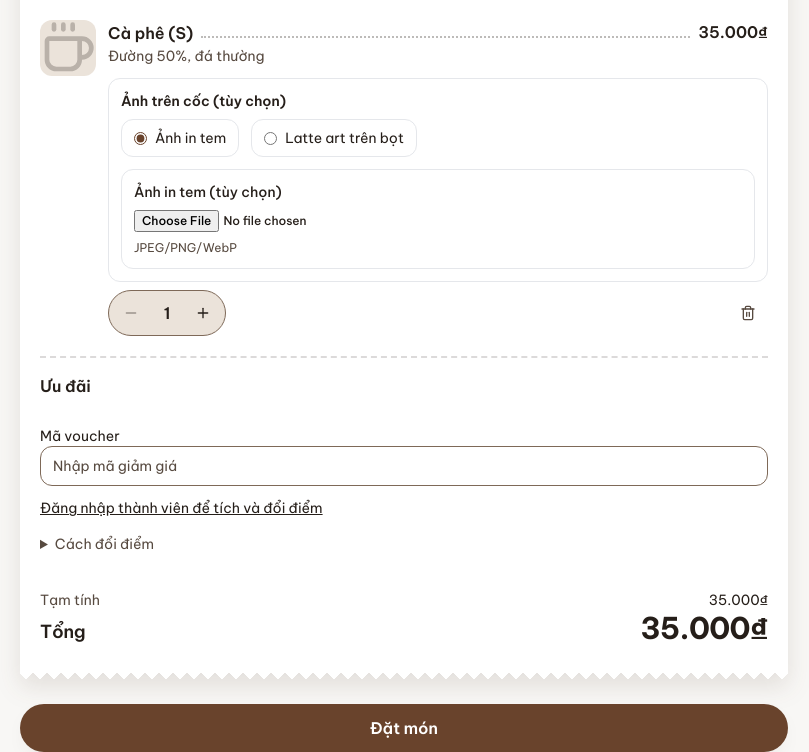
checkout interfaces › asks for consent only when the quoted price changes
This screenshot has width=809, height=752.
Later steps or results of the test are not shown.
(page scrolled)
What coordinates should you click on to do the following:
click the button "Đặt món"
I would click on:
 (404, 728)
Its box is top-left (20, 704), bottom-right (788, 751).
(page scrolled)
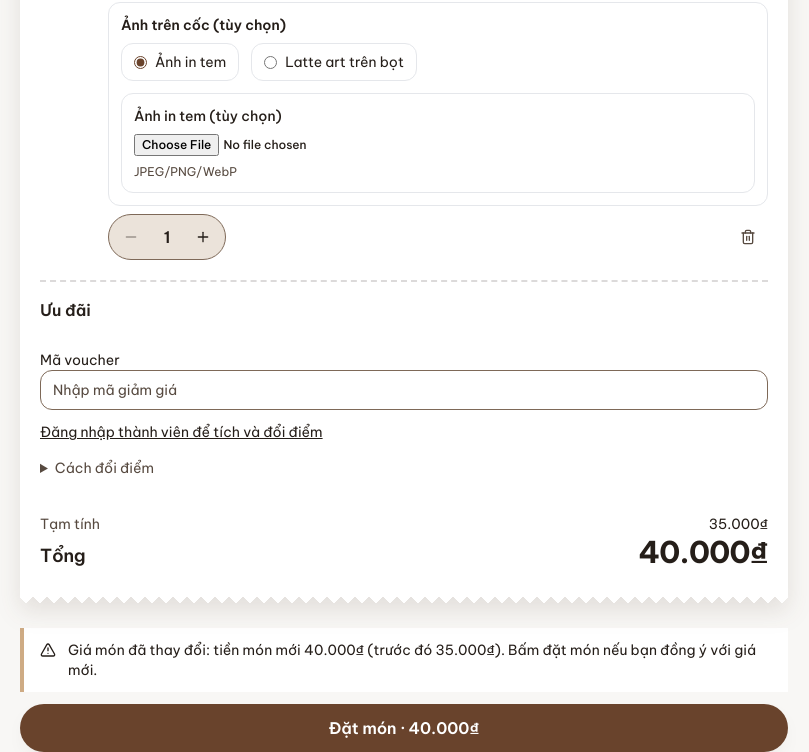
Result: the message is shown at top-left (20, 628), bottom-right (788, 692)
